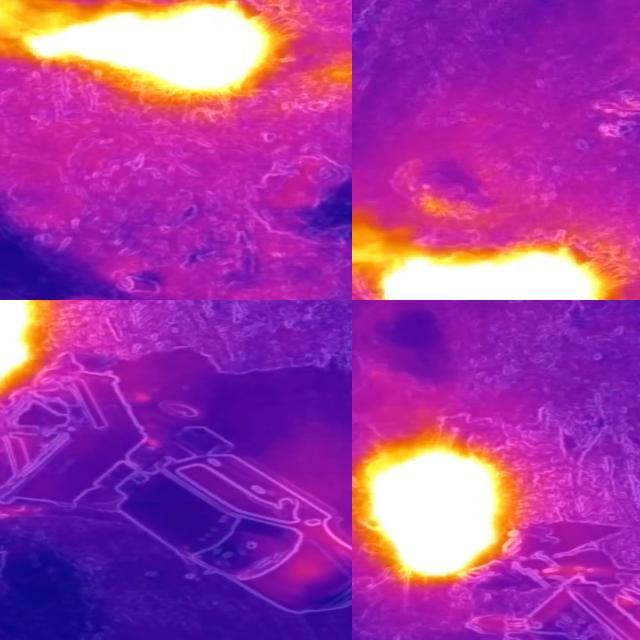fire: (21, 1, 278, 98), (358, 431, 519, 583), (380, 244, 611, 301), (1, 299, 53, 394)
